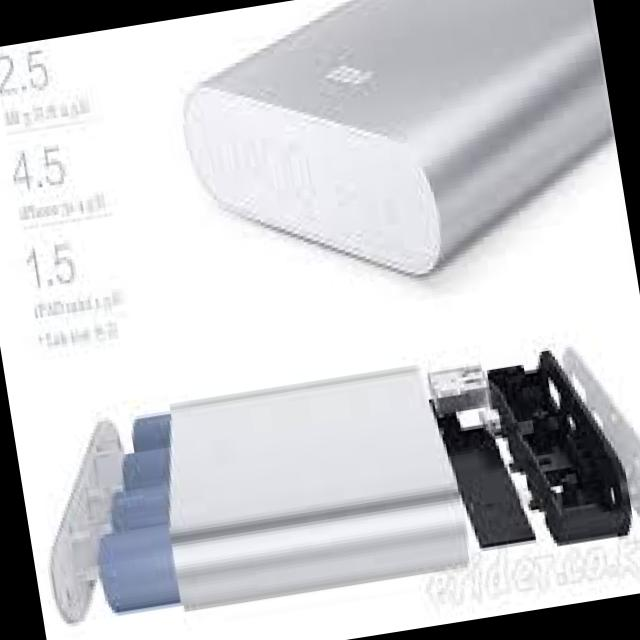portable-charger: (161, 0, 633, 322)
